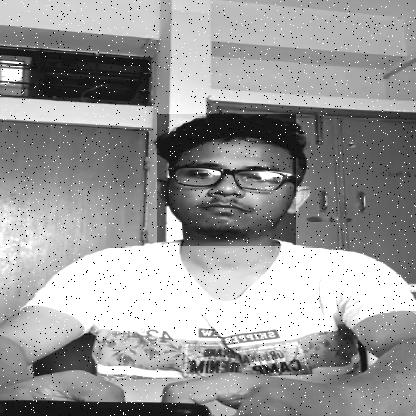Normal: (157, 114, 296, 246)
